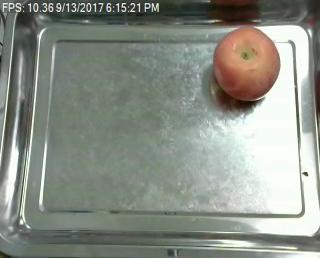apple: (213, 27, 281, 101)
